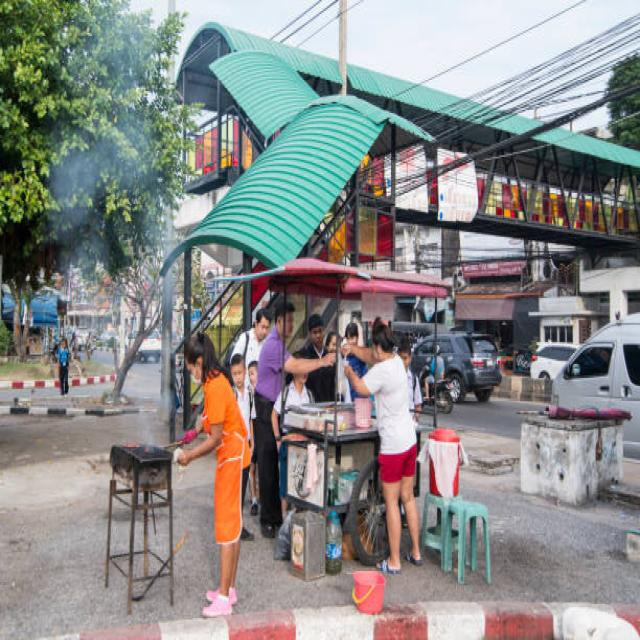Emperan: (201, 238, 496, 630)
